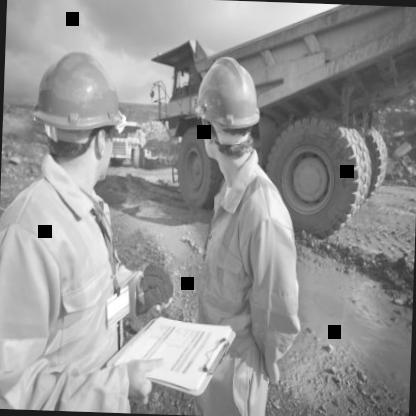helmet: (21, 40, 133, 188), (186, 50, 267, 172)
